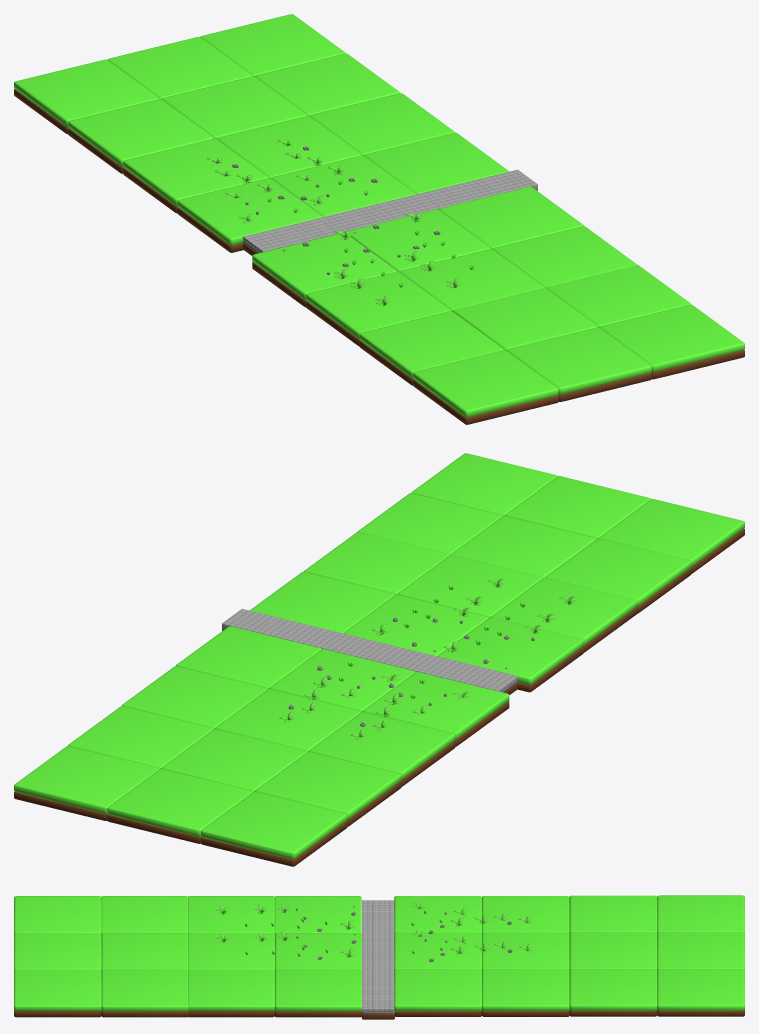
The model's file is floor.glb.
3 views of the same model, one above another, from view 1: azimuth 30°, elevation 25°; view 2: azimuth 150°, elevation 25°; view 3: azimuth 270°, elevation 25° (orthographic). The views are drawn at different scales.
Parts seen in each view (by area): view 1: ground_stone; view 2: ground_stone; view 3: ground_stone.
Part boxes in pixels (x1=…): ground_stone: x1=14, y1=14, x2=744, y2=424; ground_stone: x1=14, y1=453, x2=744, y2=866; ground_stone: x1=14, y1=895, x2=744, y2=1019.
Size of the model in its own units: 65.78 by 4.92 by 178.
